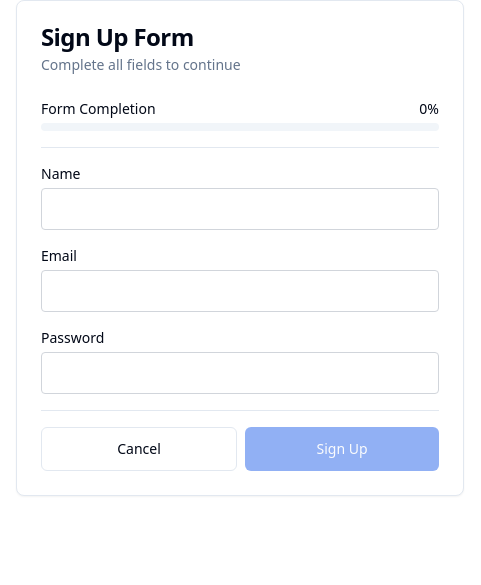
Scenario: Component Integration Tests › Form with Progress and Validation Integration › should show validation errors and prevent submission
Note: Enter invalid data
Step 1. Type "J" into the field labelled "Name" → (240, 209), box [41,188,439,230]
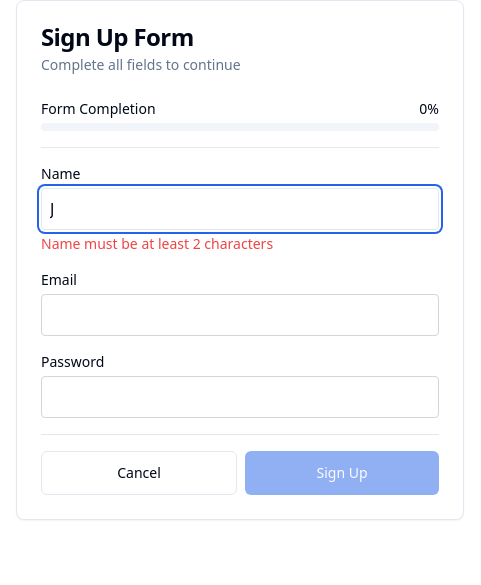
Step 2. Type "invalid-email" into the field labelled "Email" → (240, 315), box [41,294,439,336]
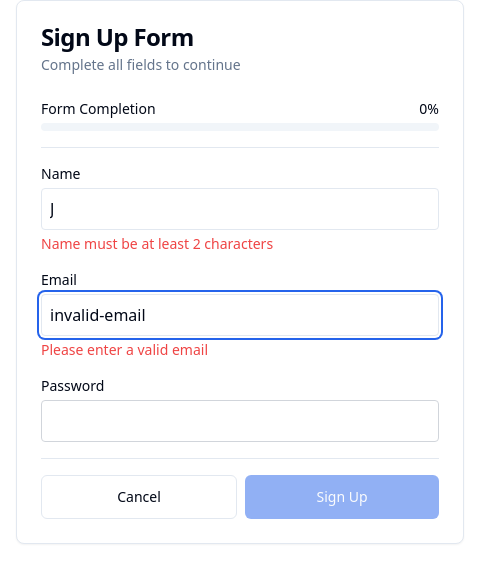
Step 3. Type "123" into the password field labelled "Password" → (240, 421), box [41,400,439,442]
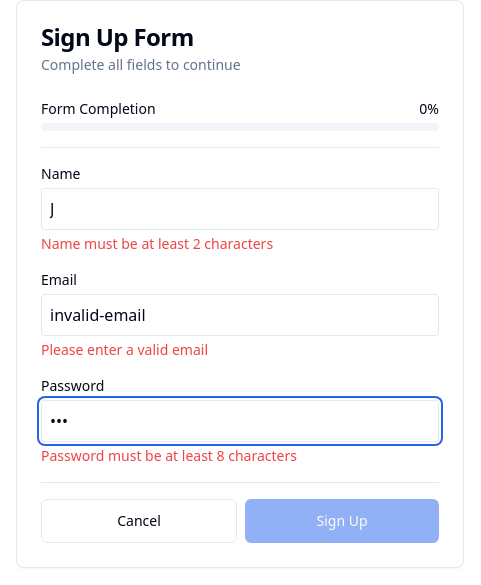
Expected: the text "Name must be at least 2 characters" is shown, [41,234,273,253]
Expected: the text "Please enter a valid email" is shown, [41,340,208,359]
Expected: the text "Password must be at least 8 characters" is shown, [41,446,297,465]
